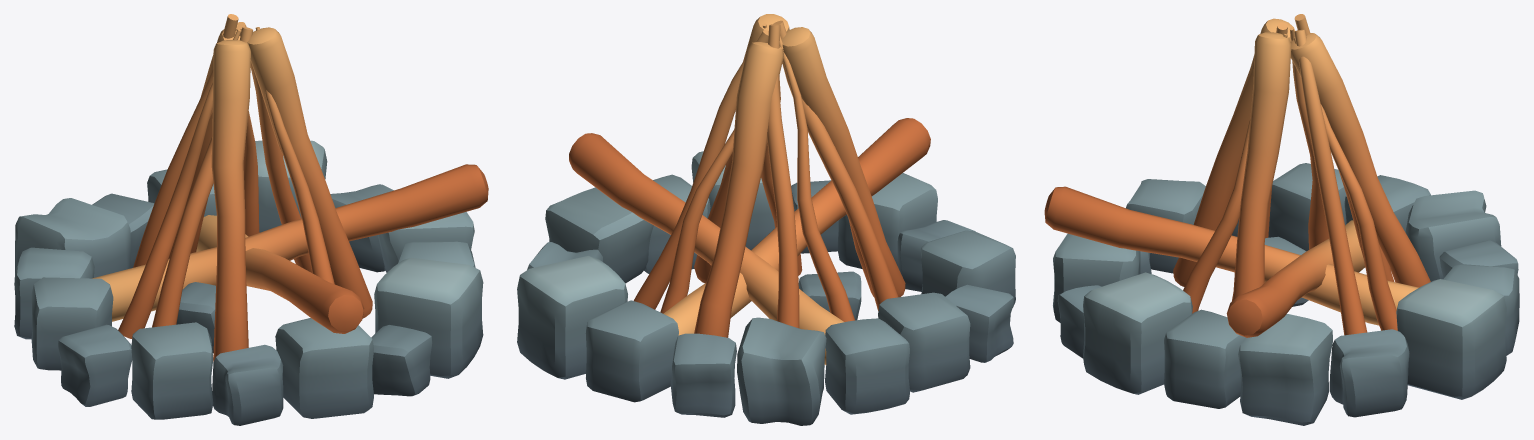
The model's file is CampFire.fbx.
3 views of the same model, side by side, from view 1: azimuth 30°, elevation 25°; view 2: azimuth 150°, elevation 25°; view 3: azimuth 270°, elevation 25° (orthographic). The views are drawn at different scales.
Visible parts, largest first — view 1: CampFire; view 2: CampFire; view 3: CampFire.
Boxes of the visible parts, x1,y1,x2,y2 form: CampFire: [14, 14, 488, 425]; CampFire: [517, 14, 1015, 425]; CampFire: [1044, 14, 1519, 425].
Size of the model in its own units: 0.4781 by 0.3445 by 0.4738.
